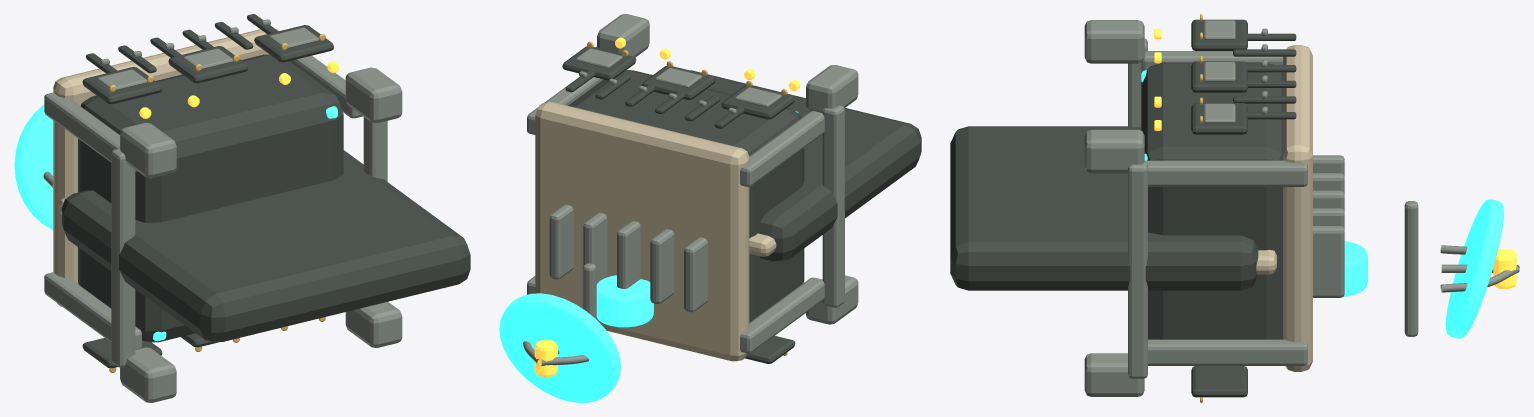
The model's file is radar.glb.
The picture shows the model from 3 angles, left to right: view 1: azimuth 30°, elevation 25°; view 2: azimuth 150°, elevation 25°; view 3: azimuth 270°, elevation 25°; orthographic projection. The views are drawn at different scales.
Visible parts, largest first — view 1: Layered armored foundation.005, Signal operations block, Sensor roof armor, Continuous side skid.010, Signal dish core, Corner cast foot.023, Corner cast foot.021, Corner cast foot.020, Structural corner rail.022, Structural corner rail.020, Corner cast foot.022, Continuous side skid.011 (+8 smaller); view 2: Sensor roof armor, Signal operations block, Layered armored foundation.005, Signal dish core, Continuous side skid.010, Structural corner rail.020, Structural corner rail.022, Hardened mast base, Corner cast foot.021, Cooling fin.004, Cooling fin.001, Corner cast foot.023 (+15 smaller); view 3: Layered armored foundation.005, Signal operations block, Sensor roof armor, Structural corner rail.023, Structural corner rail.021, Continuous side skid.011, Signal dish core, Corner cast foot.021, Corner cast foot.023, Cooling fin.004, Corner cast foot.022, Antenna mast (+16 smaller).
Part boxes in pixels (box(x1,y1,x2,y2)): Layered armored foundation.005: box(62, 150, 470, 341); Signal operations block: box(78, 54, 343, 342); Sensor roof armor: box(53, 29, 278, 306); Continuous side skid.010: box(111, 148, 135, 367); Signal dish core: box(14, 104, 53, 229); Corner cast foot.023: box(345, 67, 402, 123); Corner cast foot.021: box(120, 122, 176, 178); Corner cast foot.020: box(120, 347, 176, 402); Structural corner rail.022: box(44, 92, 137, 171); Structural corner rail.020: box(44, 272, 141, 349); Corner cast foot.022: box(345, 301, 402, 347); Continuous side skid.011: box(363, 117, 387, 181); Sensor roof armor: box(535, 102, 749, 361); Signal operations block: box(568, 70, 804, 322); Layered armored foundation.005: box(690, 70, 921, 261); Signal dish core: box(499, 293, 620, 402); Continuous side skid.010: box(822, 105, 844, 307); Structural corner rail.020: box(740, 277, 824, 353); Structural corner rail.022: box(740, 111, 824, 186); Hardened mast base: box(596, 275, 653, 327); Corner cast foot.021: box(806, 65, 858, 112); Cooling fin.004: box(549, 204, 573, 279); Cooling fin.001: box(650, 229, 674, 303); Corner cast foot.023: box(597, 14, 649, 57); Layered armored foundation.005: box(950, 126, 1258, 290); Signal operations block: box(1141, 62, 1282, 339); Sensor roof armor: box(1283, 45, 1312, 371); Structural corner rail.023: box(1145, 160, 1307, 186); Structural corner rail.021: box(1148, 339, 1307, 365); Continuous side skid.011: box(1128, 161, 1147, 378); Signal dish core: box(1445, 199, 1503, 338); Corner cast foot.021: box(1084, 20, 1144, 63); Corner cast foot.023: box(1084, 129, 1144, 173); Cooling fin.004: box(1313, 226, 1344, 297); Corner cast foot.022: box(1084, 353, 1144, 396); Antenna mast: box(1404, 201, 1418, 336).
Size of the model in its own units: 1.86 by 1.89 by 3.41.
